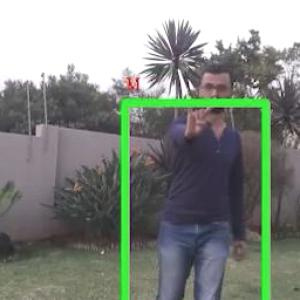takeoff-hand: (171, 86, 217, 140)
